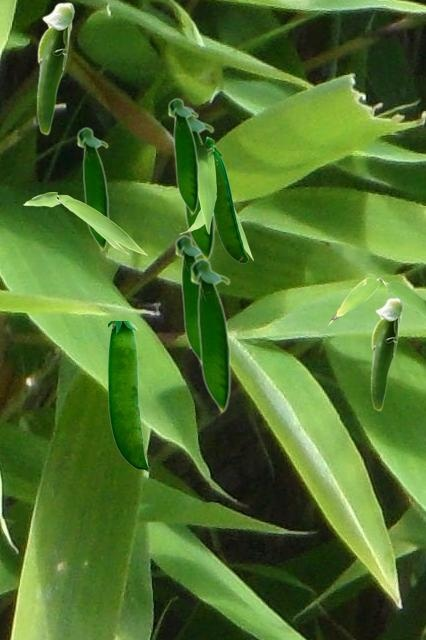pea: (189, 257, 230, 415), (173, 105, 214, 259), (108, 321, 148, 472), (205, 136, 247, 262), (36, 2, 74, 134), (76, 126, 108, 252), (370, 297, 403, 410), (167, 97, 198, 216), (174, 234, 200, 366)
